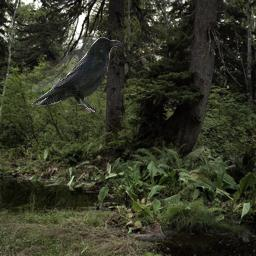Crow: (32, 37, 123, 112)
